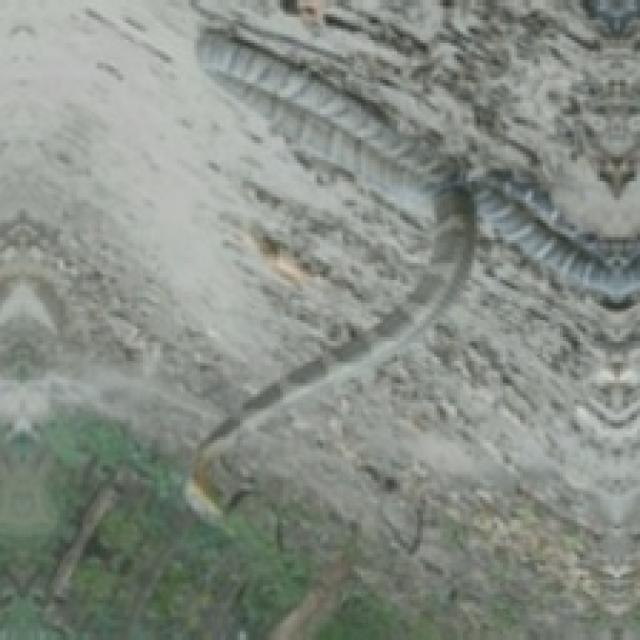king cobra: (197, 0, 637, 543)
